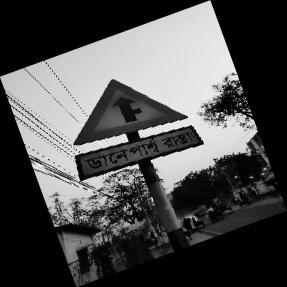Side-road-right: (72, 78, 199, 183)
